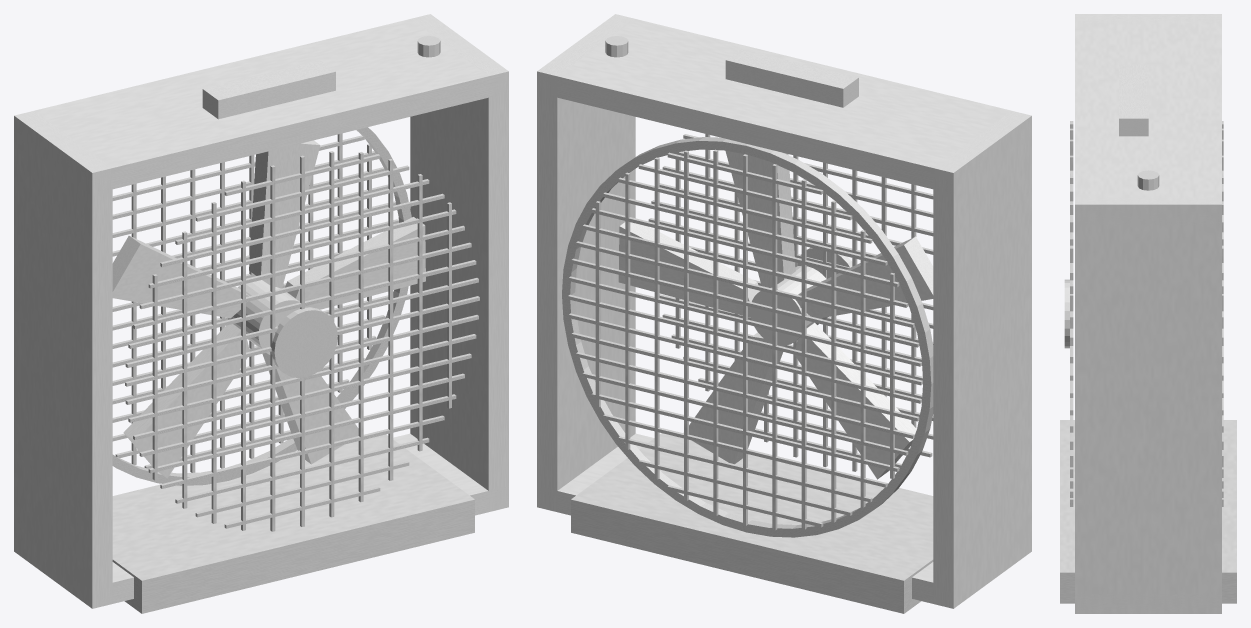
File: classicboxfan.obj
3 views of the same model, side by side, from view 1: azimuth 30°, elevation 25°; view 2: azimuth 150°, elevation 25°; view 3: azimuth 270°, elevation 25° (orthographic). The views are drawn at different scales.
Parts seen in each view (by area): view 1: Case, Trim, Black, Rotor; view 2: Case, Trim, Black, Rotor; view 3: Case, Black, Trim.
Boxes of the visible parts, left/top/right/bottom form: Case: left=14, top=14, right=508, bottom=608; Trim: left=112, top=127, right=479, bottom=531; Black: left=112, top=36, right=474, bottom=613; Rotor: left=112, top=140, right=425, bottom=478; Case: left=537, top=14, right=1031, bottom=608; Trim: left=562, top=134, right=933, bottom=537; Black: left=571, top=36, right=933, bottom=613; Rotor: left=618, top=150, right=933, bottom=479; Case: left=1075, top=14, right=1221, bottom=613; Black: left=1060, top=170, right=1236, bottom=603; Trim: left=1070, top=121, right=1223, bottom=506.
Bounding box in the file's own units: 0.92 × 0.98 × 0.36.
